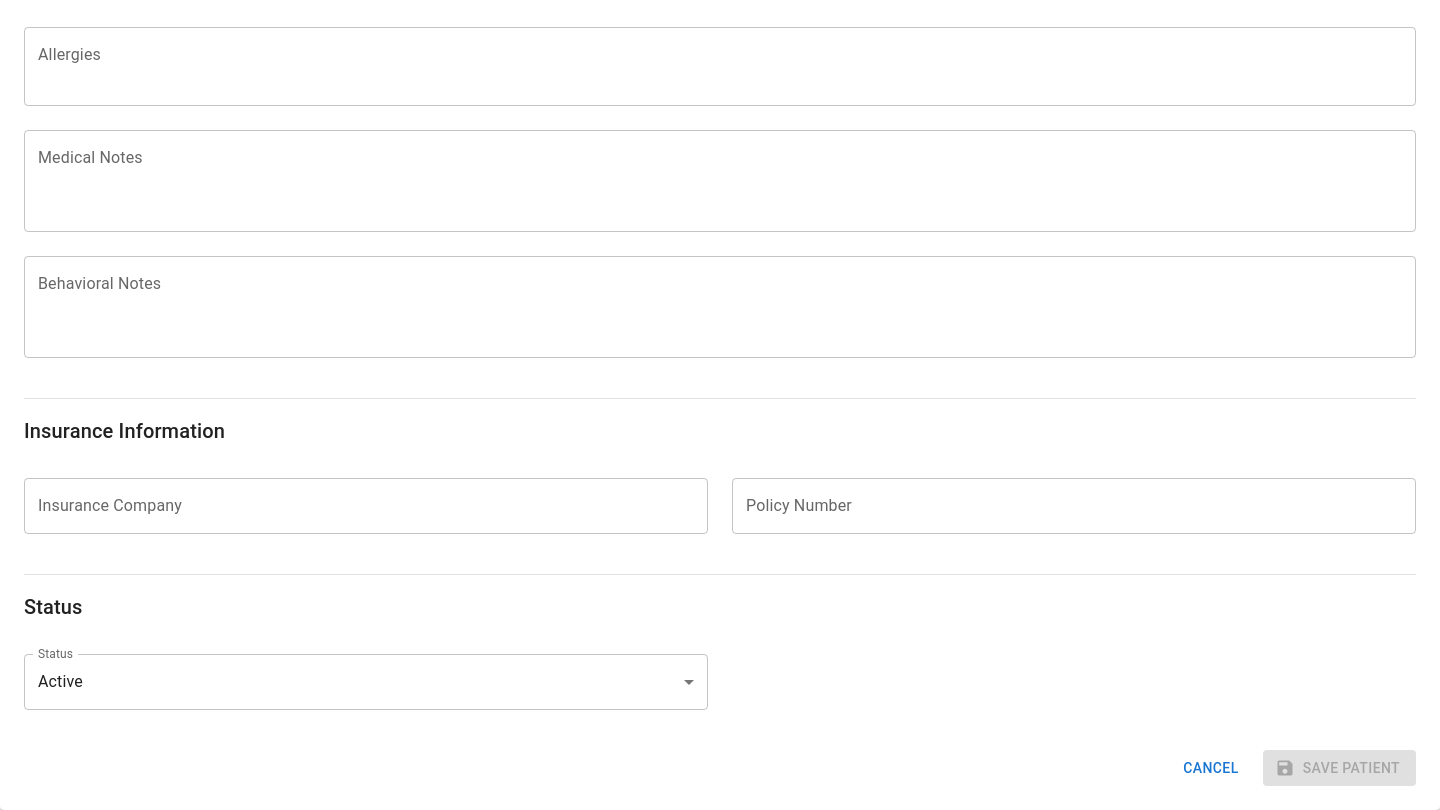
Test: PatientForm Component › Status Field › shows deceased_date field when status is Deceased
The width and height of the screenshot is (1440, 810).
(page scrolled)
Expected: the field labelled "Deceased Date" is not shown
Press the mouse on the dropdown named "Status" at (60, 682), box [38,672,83,691]
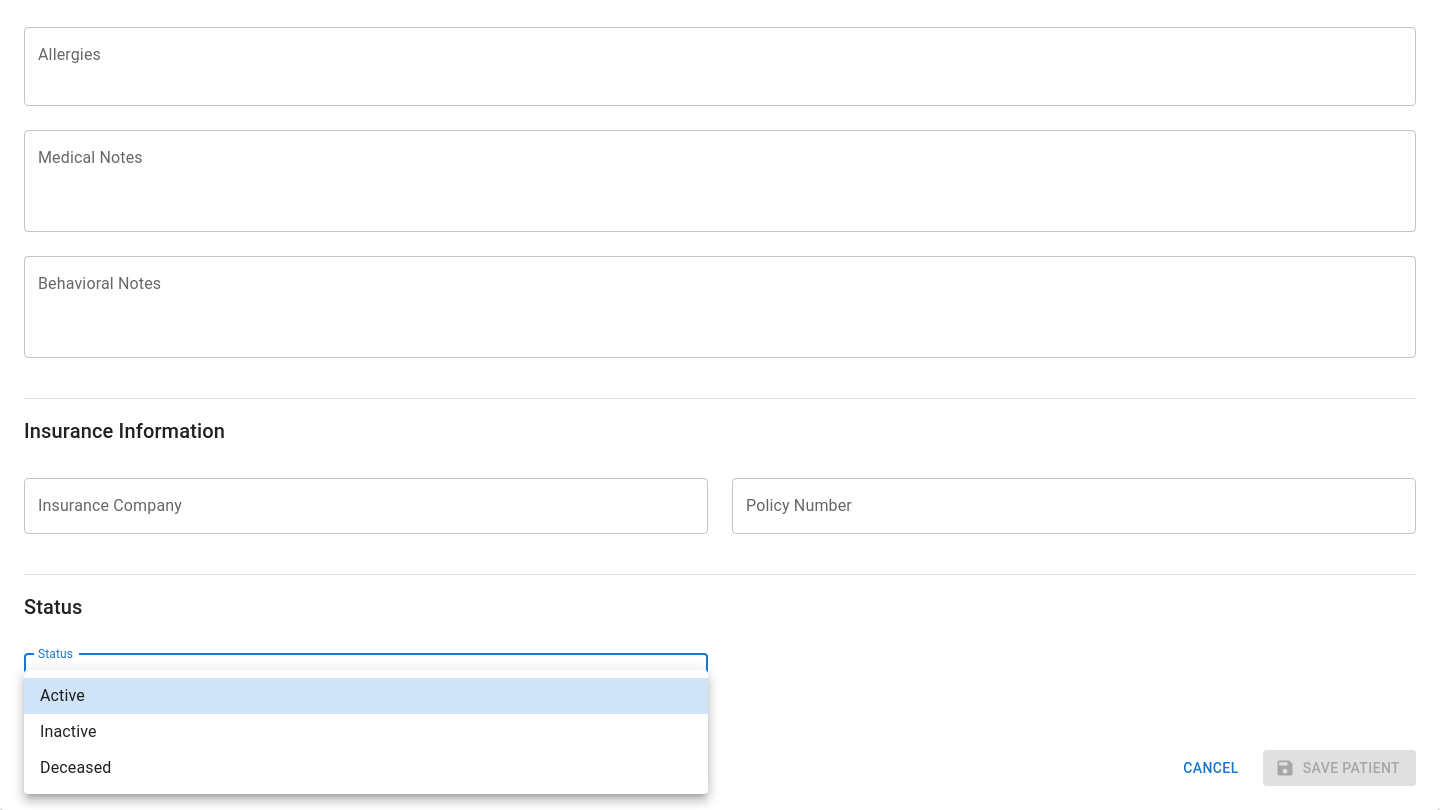
Expected: the option "Deceased" is shown
Click the option "Deceased".
click(76, 768)  # box [40,758,112,777]
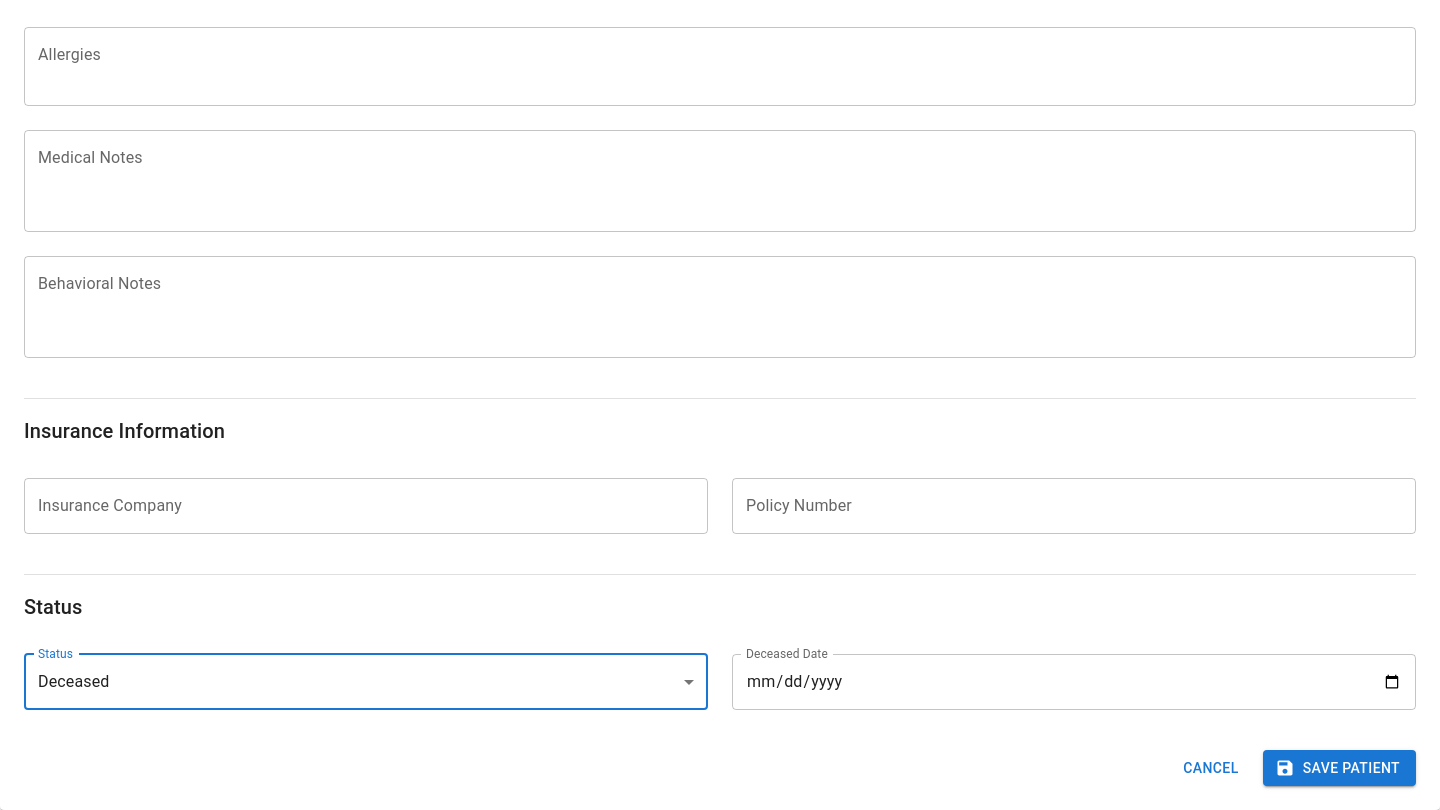
Expected: the date field labelled "Deceased Date" is shown, [732,654,1416,710]
